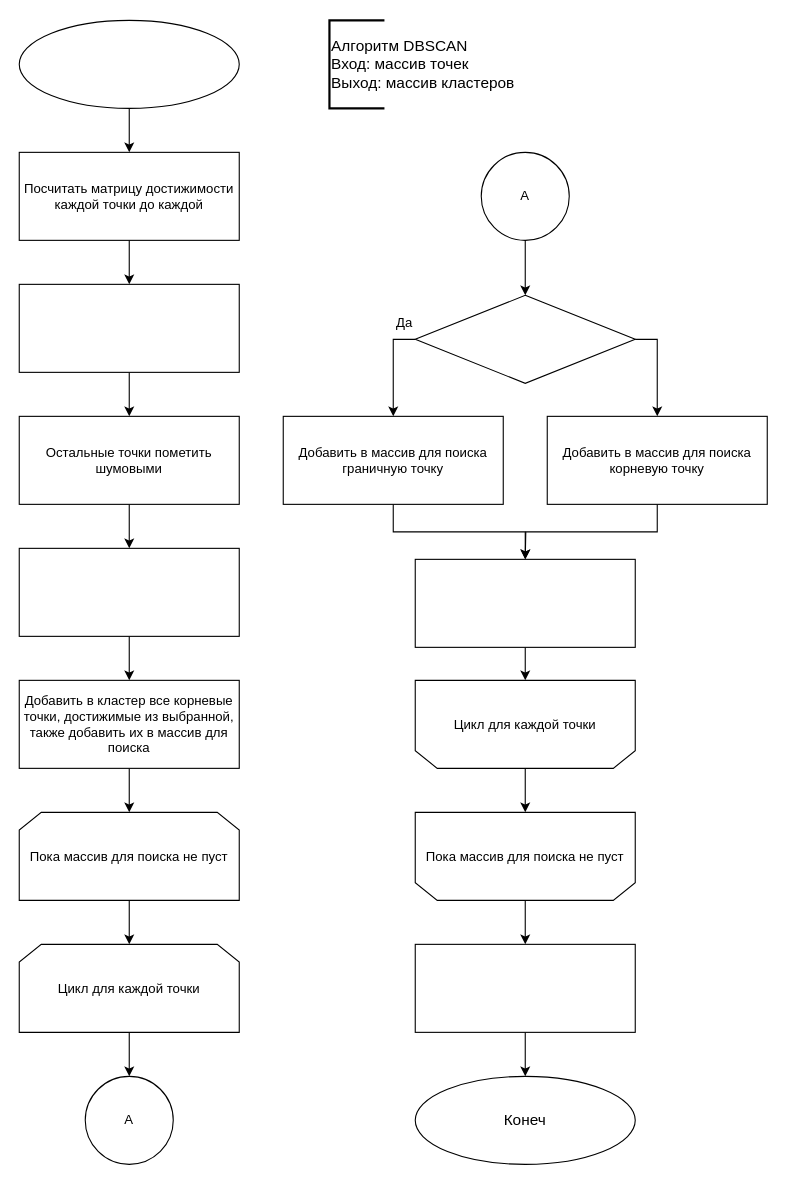
The diagram is 787 pixels wide and 1184 high, and some of its shapes have lost their labels. The shapes that lost their labels are listed below. From the top down, each one's box as (x1, y1, x2, y2) in pixels, then its label:
(18, 19, 239, 108): Начало
(18, 283, 239, 372): Найти все корневые и граничные точки
(414, 294, 635, 383): очередная точка граничная и точка для поиска корневая
(18, 547, 239, 636): Из массива корневых точек взять первую и добавить в кластек
(414, 558, 635, 647): Добавить точку в кластер
(414, 943, 635, 1032): Добавить кластер в массив кластеров
